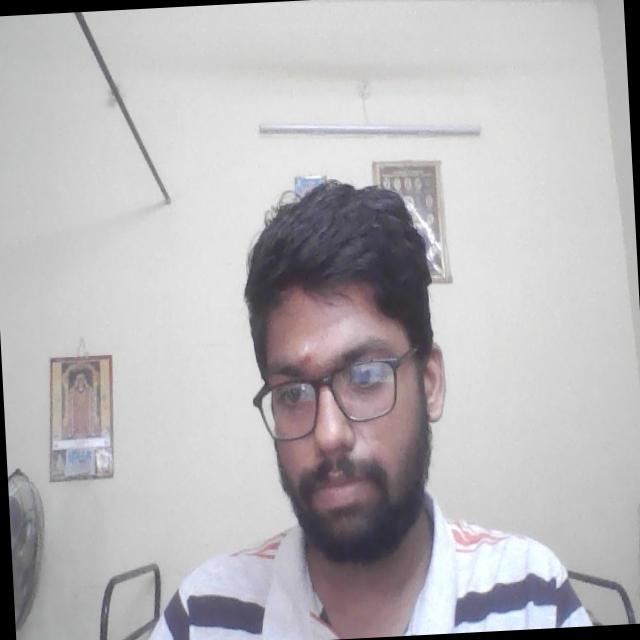Focused: (240, 296, 418, 530)
